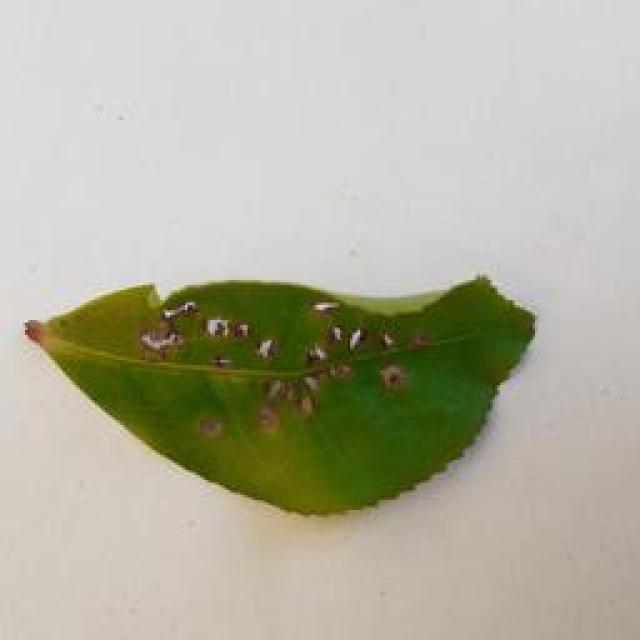Helopeltis: (14, 268, 587, 522)
